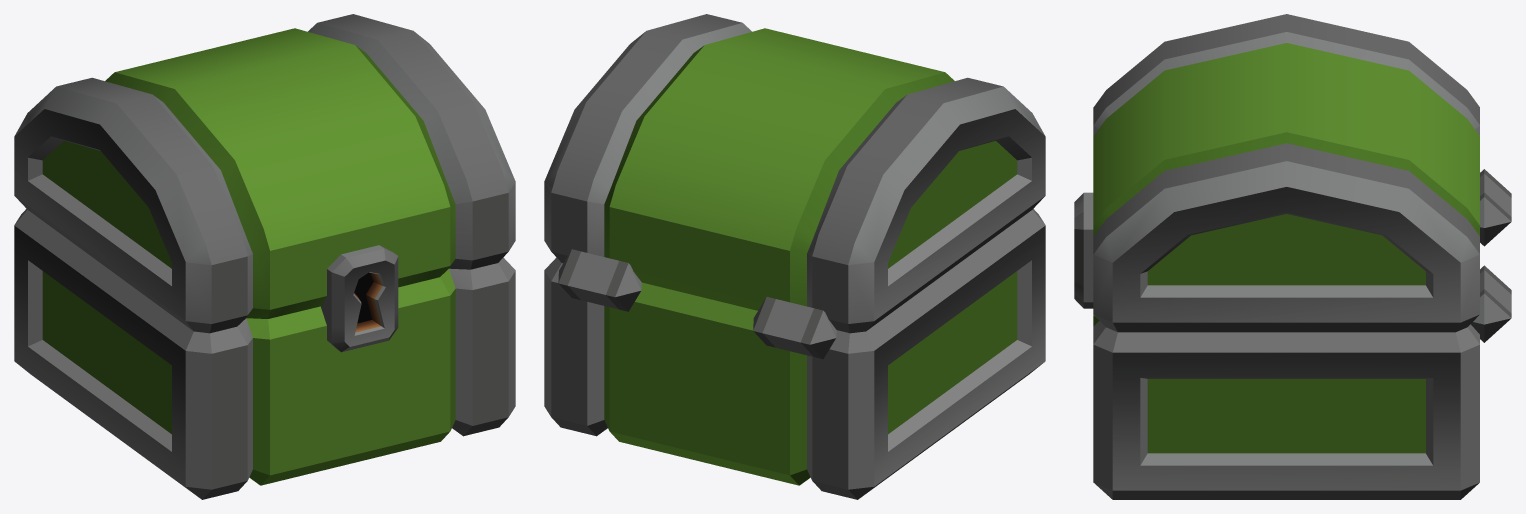
Rendered from m_deco_chestC_closed.FBX.
3 renders of one model, left to right at view 1: azimuth 30°, elevation 25°; view 2: azimuth 150°, elevation 25°; view 3: azimuth 270°, elevation 25°, orthographic.
Visible parts, largest first — view 1: m_deco_chestC_closed; view 2: m_deco_chestC_closed; view 3: m_deco_chestC_closed.
Part boxes in pixels (left/top/right/bottom): m_deco_chestC_closed: left=14, top=14, right=515, bottom=499; m_deco_chestC_closed: left=544, top=14, right=1045, bottom=499; m_deco_chestC_closed: left=1074, top=14, right=1511, bottom=499.
Bounding box in the file's own units: 2 × 1.93 × 2.26.
